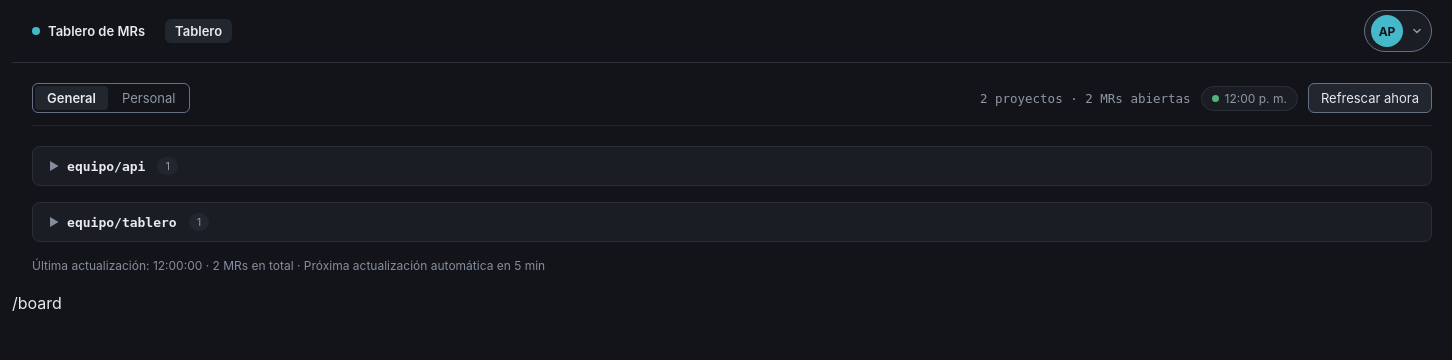
vista personal de quien no es administrador › muestra directamente las tareas propias, sin elegir a nadie
Click the button "Personal": click(149, 98) [110,86,188,110]
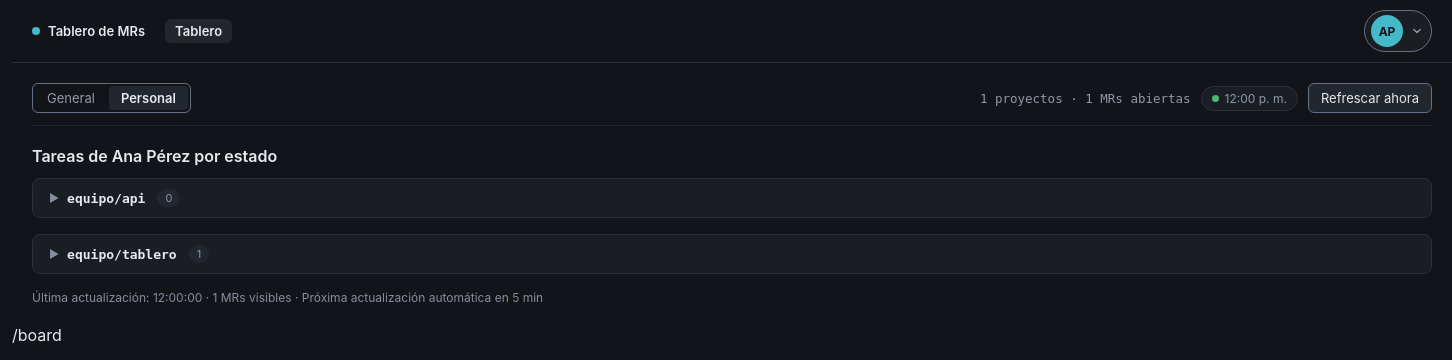
Result: the heading "Tareas de Ana Pérez por estado" is shown at [32,146,277,166]
